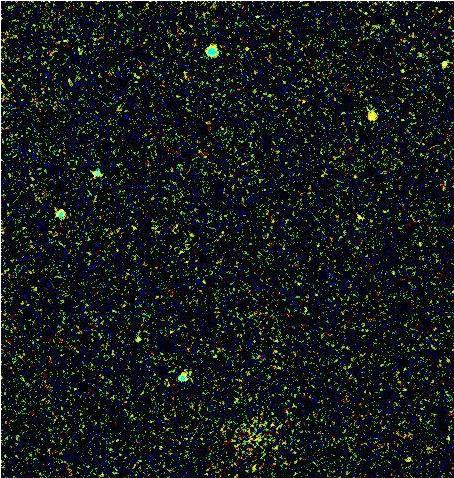star: (356, 99, 386, 129)
